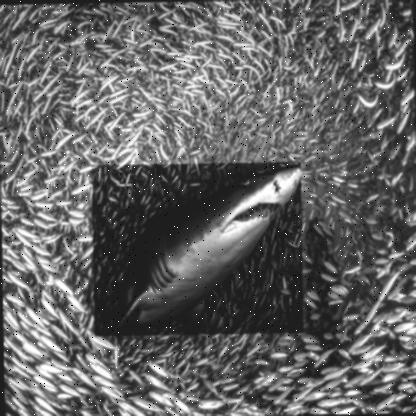tiger-shark: (90, 160, 303, 336)
